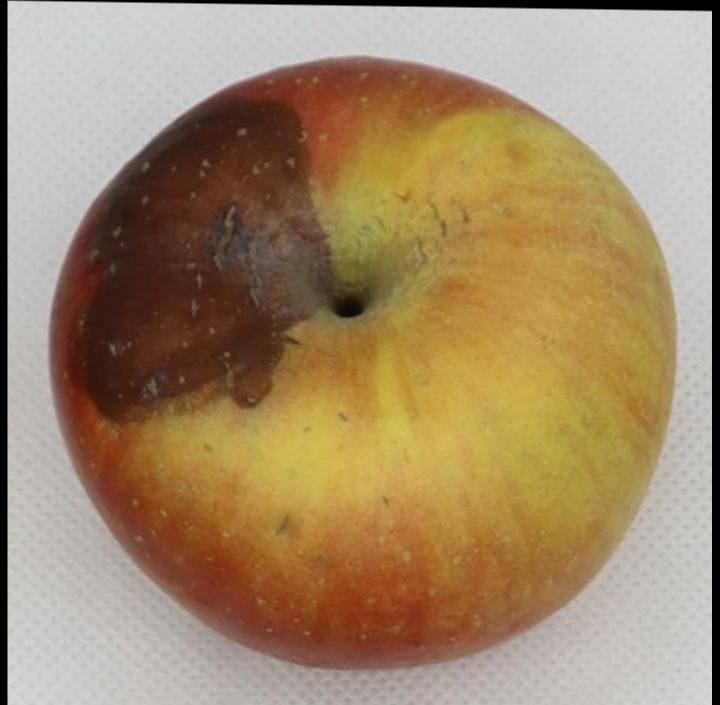apple: (51, 56, 675, 667)
rot_mold_decay: (73, 99, 334, 420)
